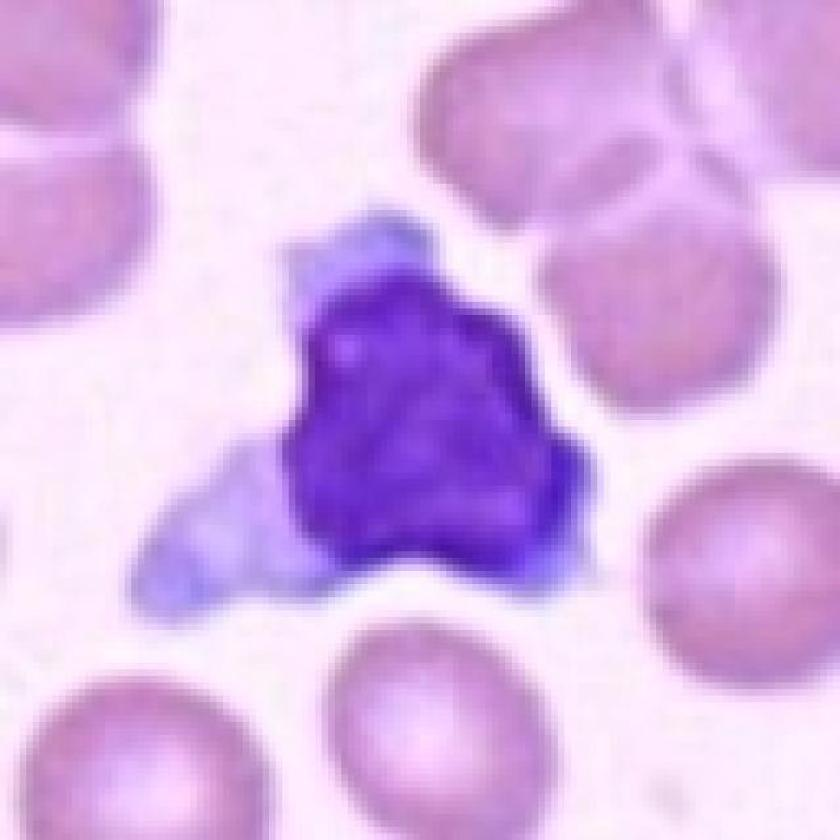lymphocyte: (126, 202, 601, 624)
